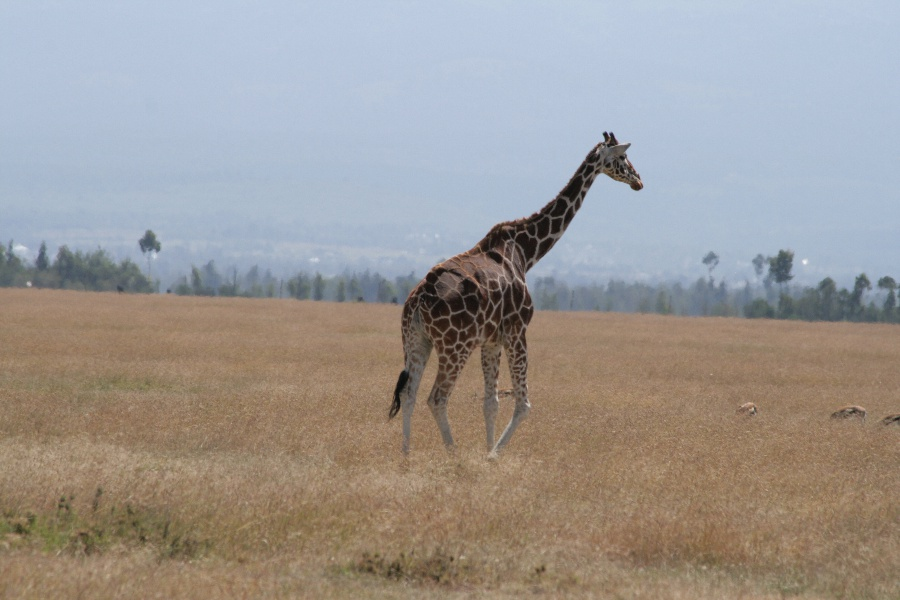giraffe: (386, 122, 649, 468)
